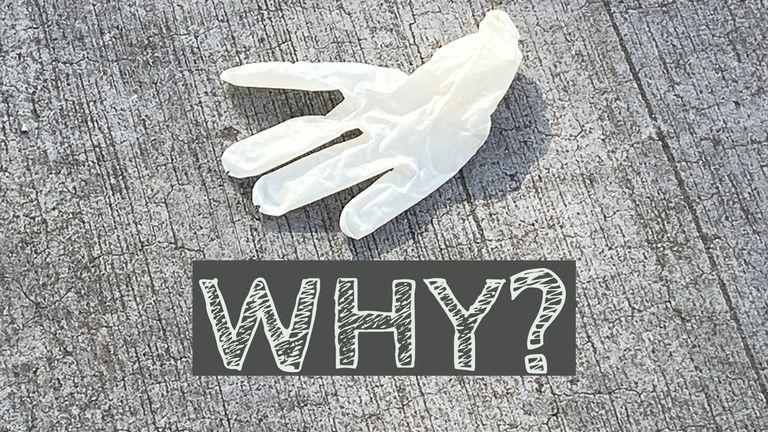gloves: (206, 10, 551, 240)
